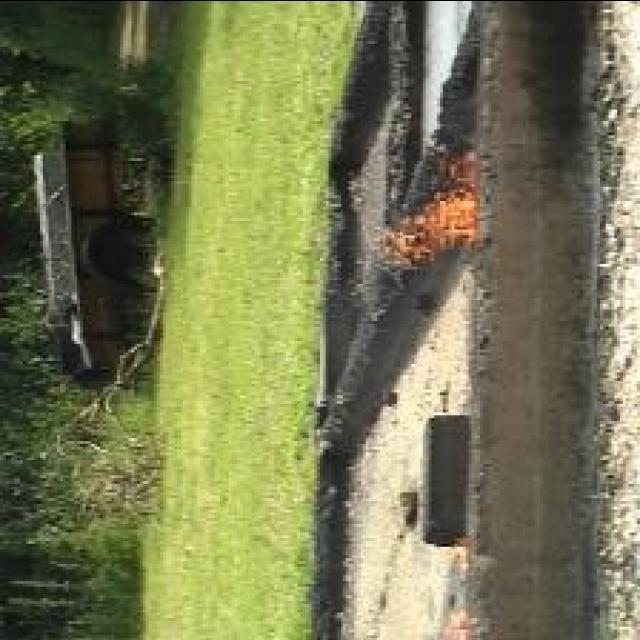Fire: (368, 147, 481, 264)
